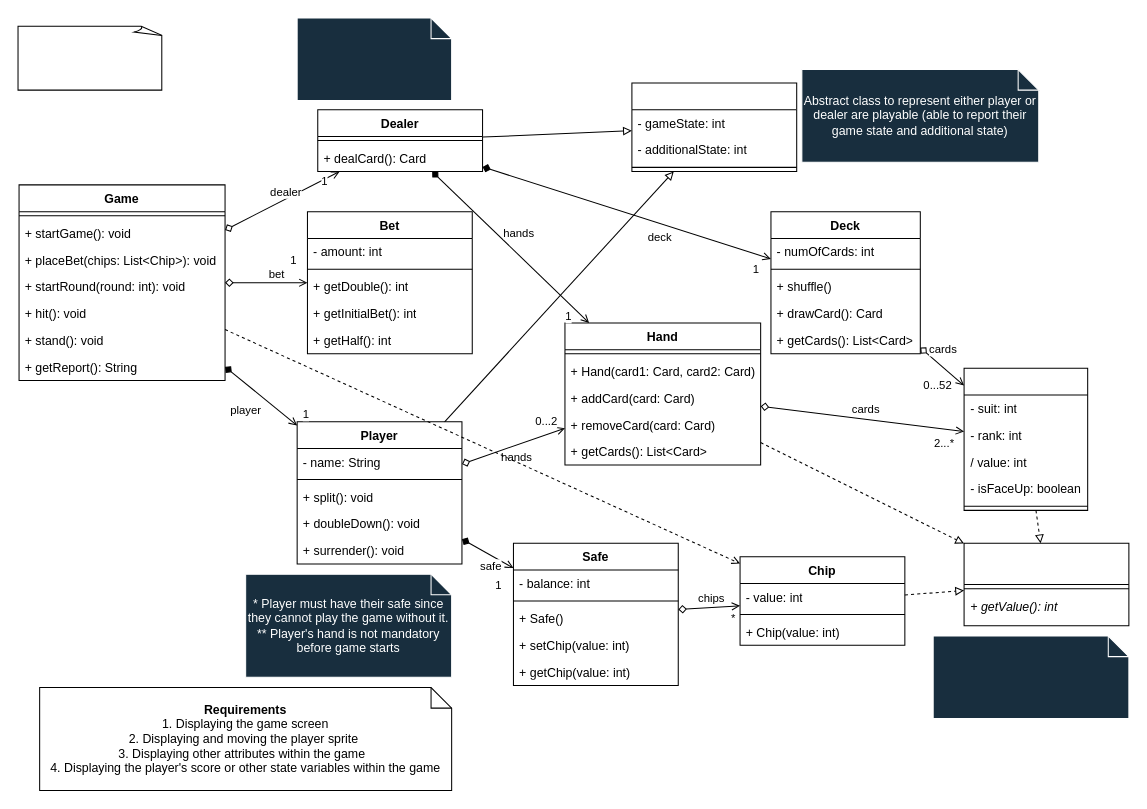
Image size: 1147x809. Some labels were removed from this diagram. The box of each missing label's shape, as (x1, y1, x2, y2) in pixels:
* Dealer must have a deck since they cannot play the game without it.: (296, 17, 452, 100)
<<interface>> Valueable: (963, 542, 1129, 626)
Card: (963, 367, 1088, 510)
Contributers : Jaehoon: (17, 25, 163, 90)
GameObject: (631, 82, 797, 171)
Interface to represent any obects having its value within the game: (932, 635, 1129, 718)
